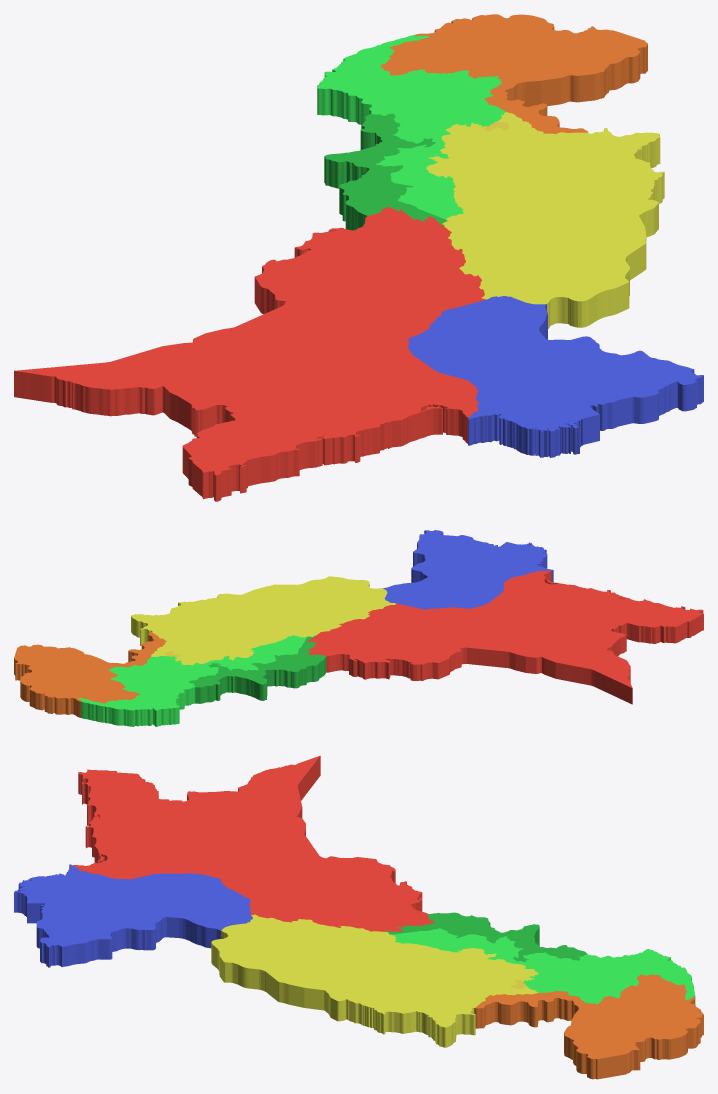
The model's file is map.FBX.
The picture shows the model from 3 angles, top to bottom: view 1: azimuth 30°, elevation 25°; view 2: azimuth 150°, elevation 25°; view 3: azimuth 270°, elevation 25°; orthographic projection. The views are drawn at different scales.
Parts seen in each view (by area): view 1: balochistan, punjab, sindh, nwfp, K1, fata, K2; view 2: balochistan, punjab, sindh, nwfp, K1, fata, K2; view 3: balochistan, punjab, sindh, K1, nwfp, K2, fata.
Part boxes in pixels (bbox=[...]): balochistan: bbox=[14, 206, 486, 501]; punjab: bbox=[426, 112, 664, 328]; sindh: bbox=[408, 296, 703, 457]; nwfp: bbox=[317, 35, 506, 219]; K1: bbox=[381, 14, 647, 102]; fata: bbox=[324, 113, 447, 230]; K2: bbox=[484, 70, 588, 133]; balochistan: bbox=[307, 570, 703, 704]; punjab: bbox=[131, 576, 395, 665]; sindh: bbox=[383, 530, 553, 609]; nwfp: bbox=[79, 635, 306, 726]; K1: bbox=[14, 644, 140, 717]; fata: bbox=[188, 635, 326, 703]; K2: bbox=[80, 632, 166, 669]; balochistan: bbox=[73, 755, 434, 931]; punjab: bbox=[211, 914, 538, 1047]; sindh: bbox=[14, 864, 252, 967]; K1: bbox=[564, 974, 703, 1079]; nwfp: bbox=[392, 928, 695, 1004]; K2: bbox=[474, 991, 597, 1028]; fata: bbox=[383, 912, 587, 961].
Bounding box in the file's own units: 285 × 8.87 × 274.
